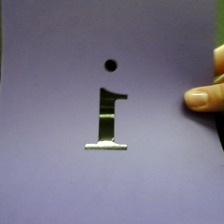violet1: (77, 56, 135, 156)
